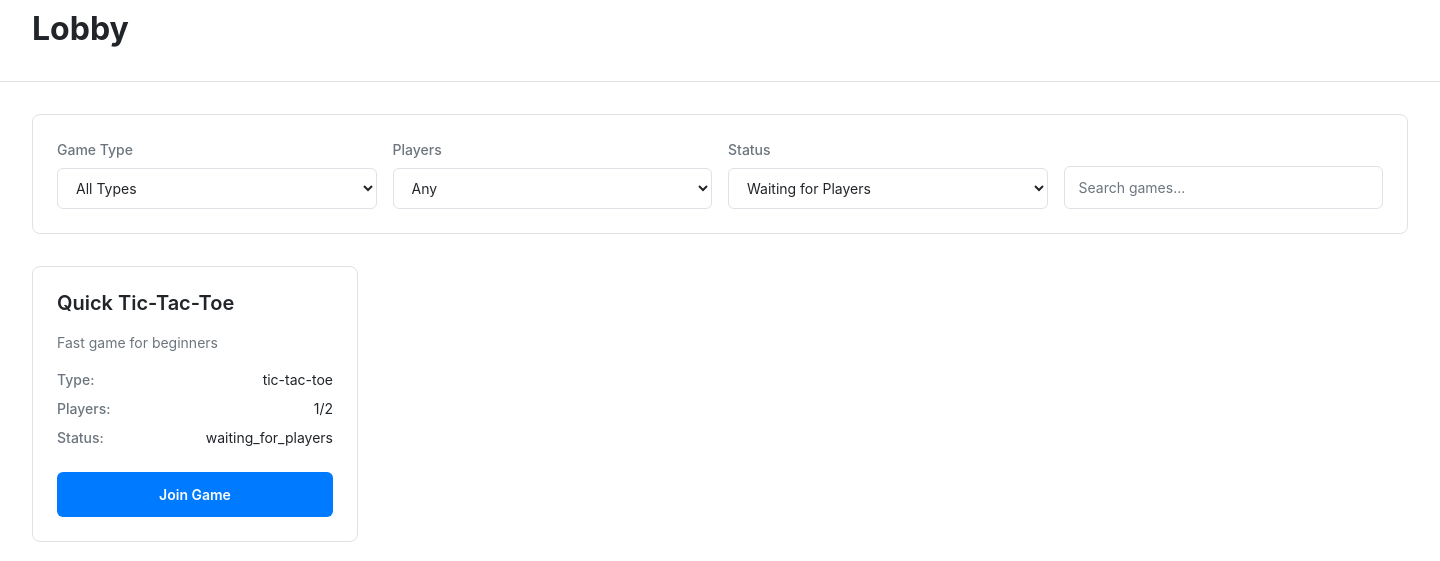
Test: LobbyView › Filtering Logic › should filter games by game type
expect the heading "Quick Tic-Tac-Toe" is shown: met, box [57,291,234,316]
// First, change filter to show all games
Select "All" in the dropdown labelled "Status" at (888, 188), box [728,168,1048,209]
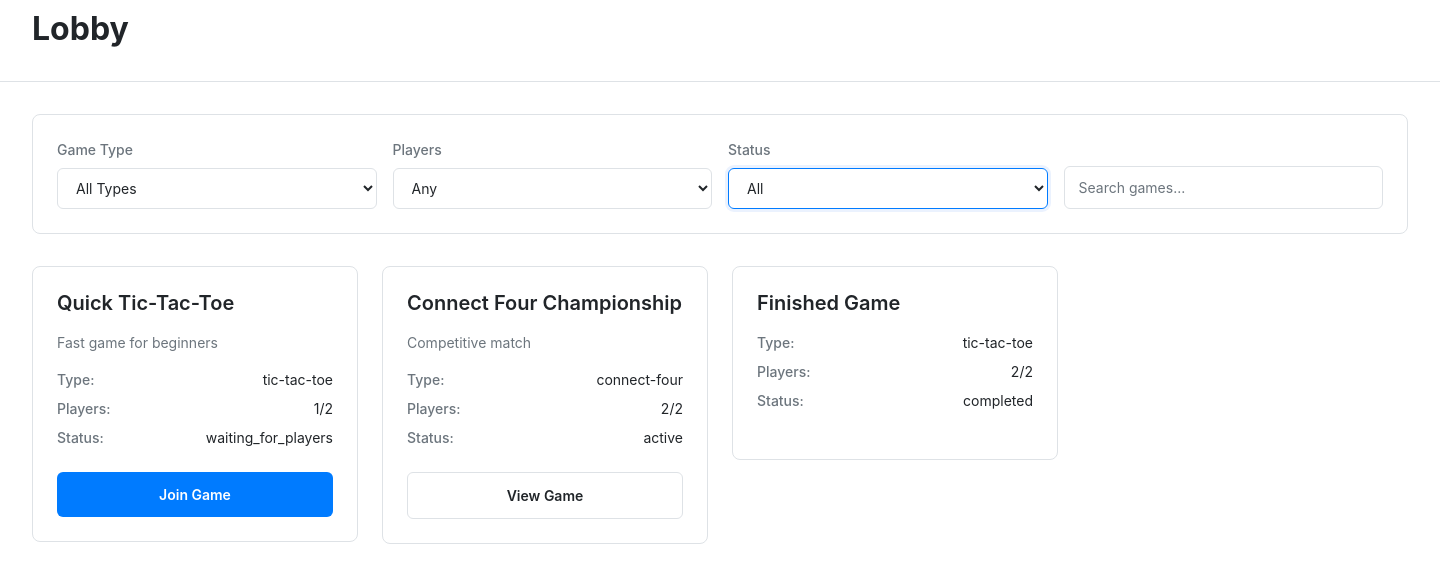
expect the heading "Quick Tic-Tac-Toe" is shown: met, box [57,291,234,316]
expect the heading "Connect Four Championship" is shown: met, box [407,291,682,316]
// Select tic-tac-toe filter
Select "Tic-Tac-Toe" in the dropdown labelled "Game Type" at (217, 188), box [57,168,376,209]
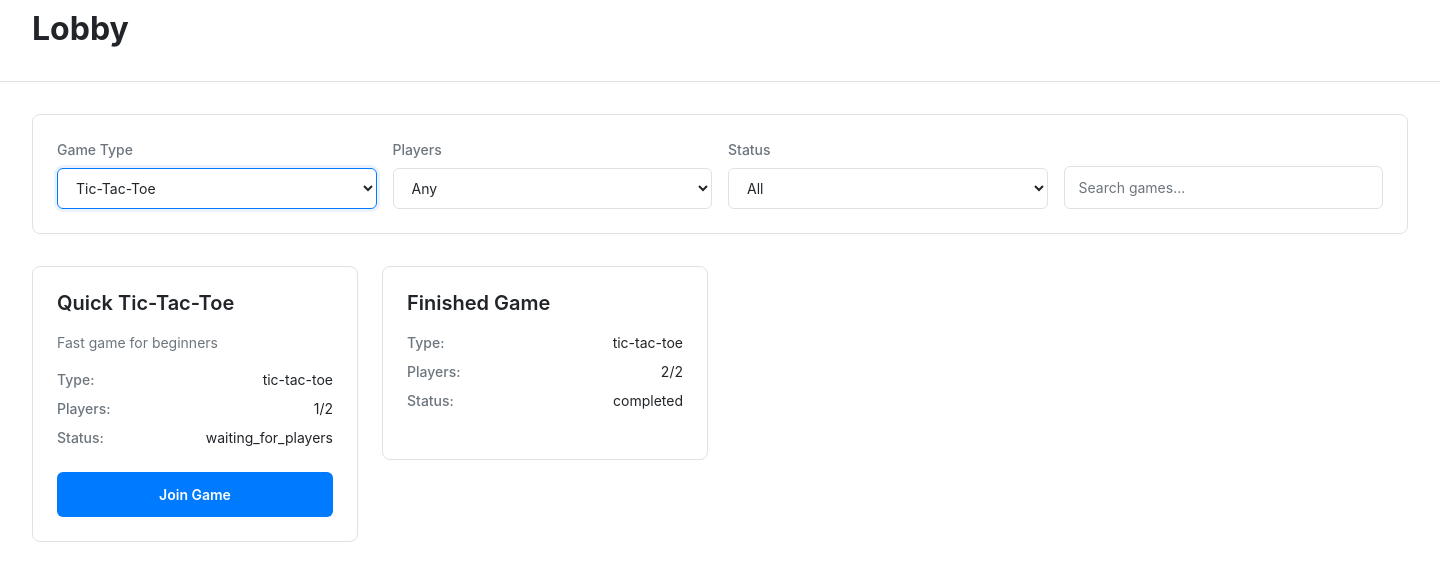
expect the heading "Quick Tic-Tac-Toe" is shown: met, box [57,291,234,316]
expect the heading "Connect Four Championship" is gone: met
